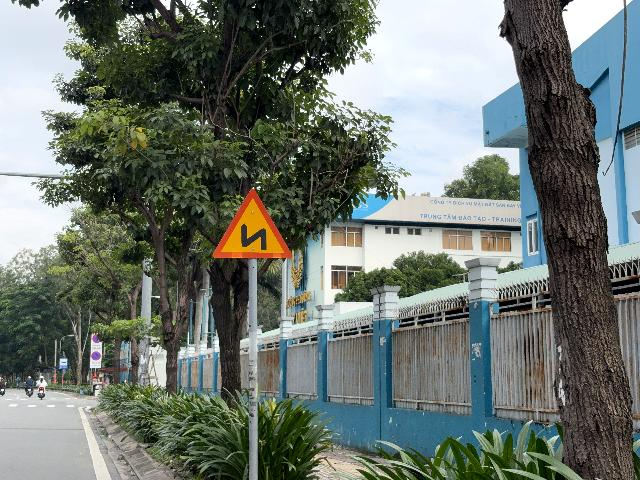nhieu-cho-ngoat-nguy-hiem-lien-tiep: (212, 189, 292, 258)
